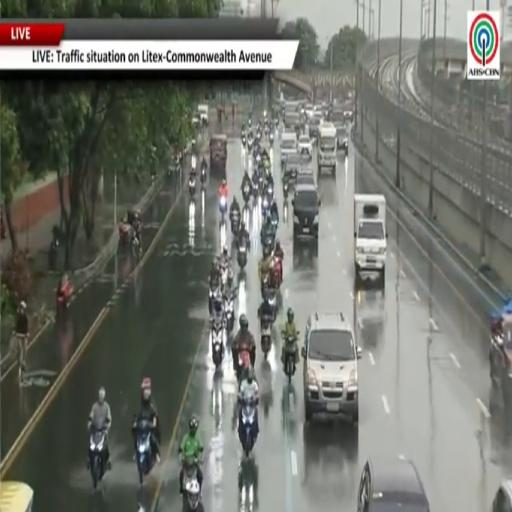bus: (0, 482, 33, 511)
car: (301, 312, 362, 424), (357, 457, 429, 511), (490, 313, 511, 406), (292, 184, 320, 244), (492, 479, 511, 511), (283, 154, 303, 179), (335, 124, 348, 155), (295, 167, 315, 186), (308, 114, 322, 138), (298, 135, 312, 157)
motorcycle: (136, 420, 155, 485), (89, 429, 106, 489), (239, 400, 257, 456), (183, 459, 200, 510), (284, 333, 297, 383), (211, 319, 224, 369), (236, 345, 251, 388), (56, 282, 73, 314), (185, 480, 200, 511), (261, 317, 271, 360), (265, 286, 276, 321), (224, 295, 234, 332), (48, 238, 59, 270), (209, 285, 221, 314), (119, 222, 132, 247), (272, 256, 282, 287), (261, 231, 275, 252), (131, 233, 142, 258), (237, 245, 247, 268), (231, 212, 240, 236), (221, 264, 229, 288), (242, 182, 251, 203), (219, 196, 227, 218), (188, 177, 196, 197), (262, 196, 269, 218), (265, 182, 273, 201), (258, 171, 264, 195), (253, 173, 258, 199), (271, 214, 278, 230), (200, 167, 206, 185), (283, 180, 288, 200), (254, 153, 261, 166), (269, 131, 274, 147), (248, 138, 253, 151), (242, 136, 247, 147), (256, 130, 261, 141)
truck: (354, 195, 387, 286), (318, 123, 336, 174), (210, 134, 227, 180), (280, 132, 297, 166)
